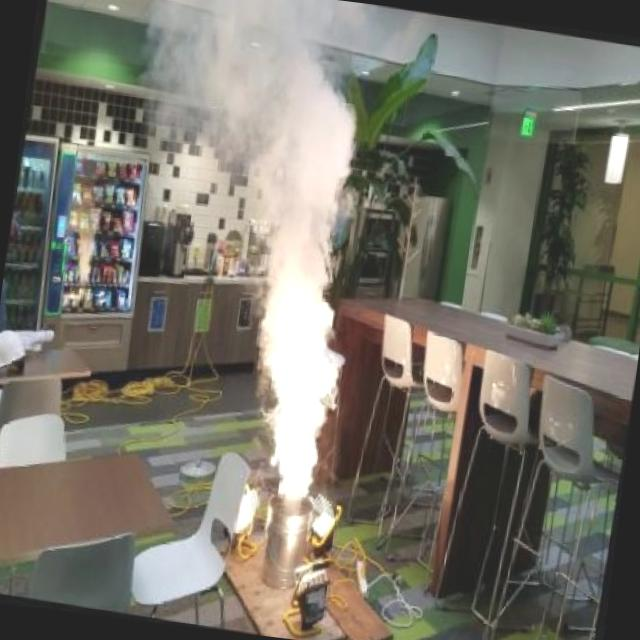smoke: (252, 266, 347, 496)
